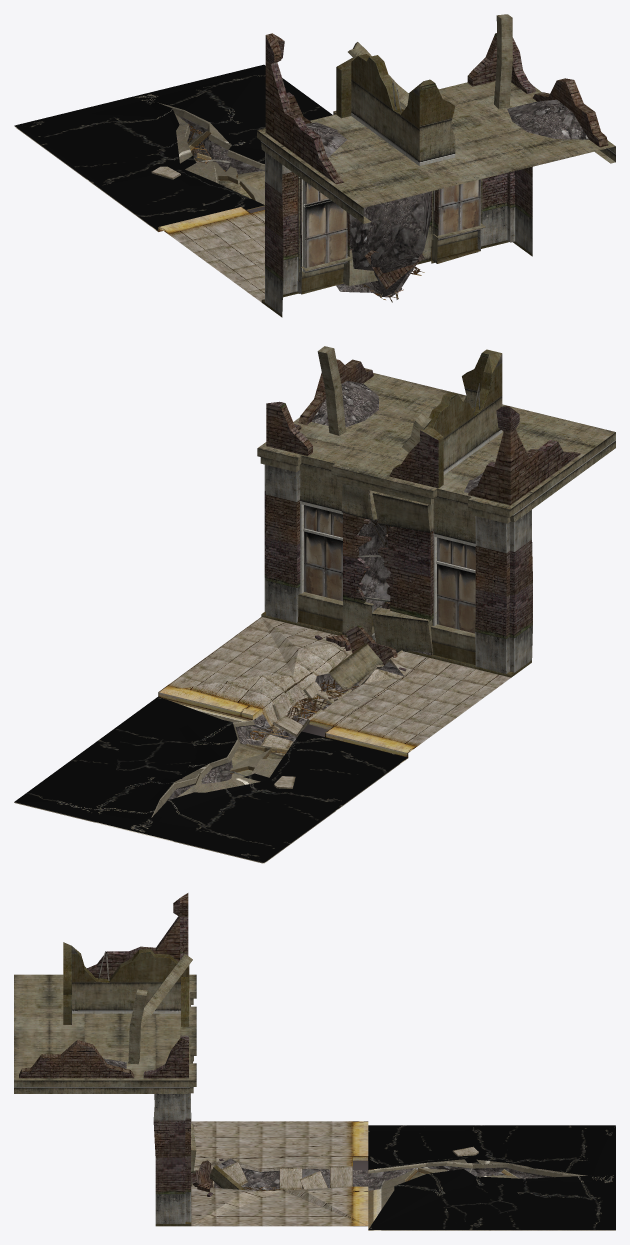
Rendered from Store_front_50.fbx.
The picture shows the model from 3 angles, top to bottom: view 1: azimuth 30°, elevation 25°; view 2: azimuth 150°, elevation 25°; view 3: azimuth 270°, elevation 25°; orthographic projection. The views are drawn at different scales.
Visible parts, largest first — view 1: Store_front_50; view 2: Store_front_50; view 3: Store_front_50.
Boxes of the visible parts, x1,y1,x2,y2 form: Store_front_50: (14, 14, 615, 317); Store_front_50: (14, 346, 615, 863); Store_front_50: (14, 893, 615, 1230).
Size of the model in its own units: 706 by 834 by 1701.
